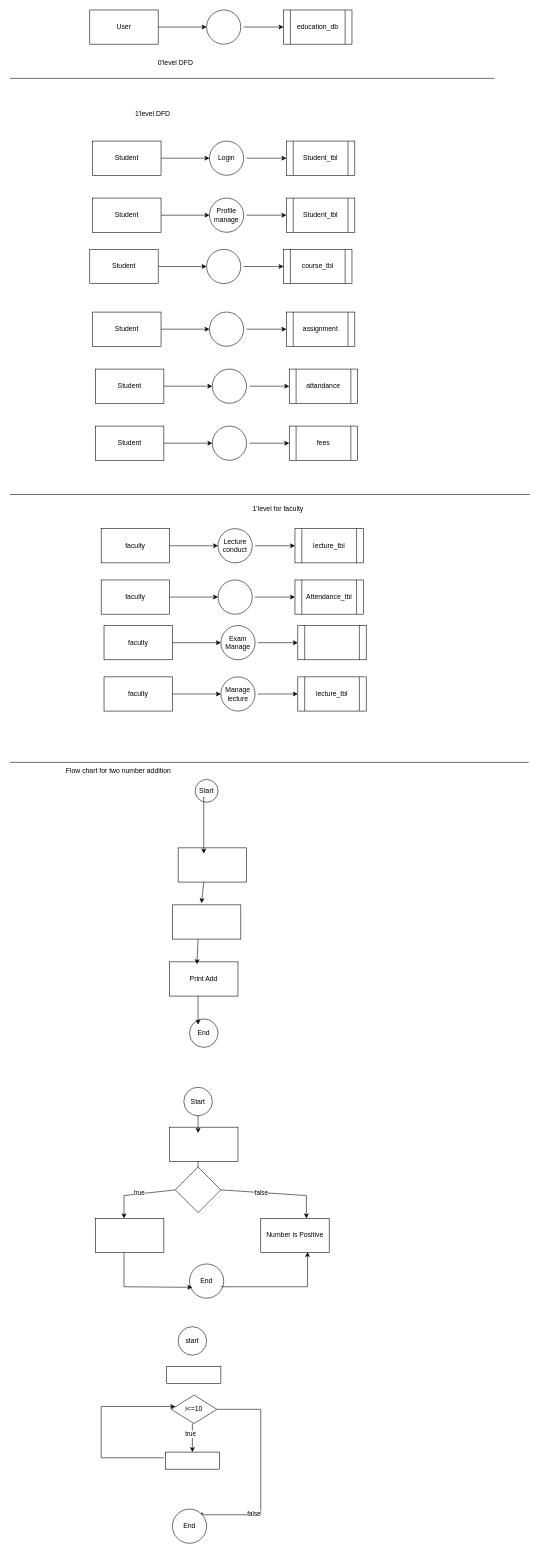
Some shapes in this 540 by 1553 pixel diagram are drawn without their labels. The shapes that lost their labels are listed below. From the top down, each one's centre as x and y in pixels, then its label:
At point (223, 26): "Education system".
At point (223, 266): "Course".
At point (226, 329): "Assignment checking".
At point (229, 386): "Attendance Check".
At point (229, 443): "fees info check".
At point (234, 596): "Attendance add".
At point (331, 642): "Exam".
At point (212, 864): "Enter Number1 and Number2".
At point (206, 921): "Add= Numbe1+Number2".
At point (203, 1144): "Enter Number".
At point (198, 1190): "Numbder <0".
At point (129, 1235): "Number is Negative".
At point (193, 1375): "i=1".
At point (192, 1460): "print i i++".
